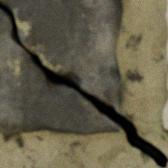brick: (163, 102, 167, 129), (166, 5, 167, 23), (166, 44, 167, 61)
broken_brick: (0, 10, 120, 134), (0, 0, 123, 112)
crack: (0, 1, 167, 167)
